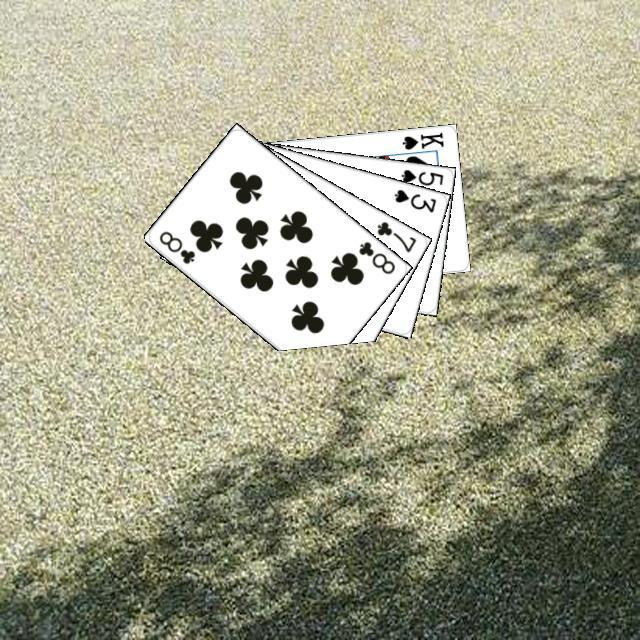3s: (389, 184, 438, 214)
5s: (396, 164, 445, 187)
7c: (372, 216, 418, 254)
8c: (354, 236, 397, 276), (154, 226, 197, 266)
Ks: (397, 127, 445, 151)
